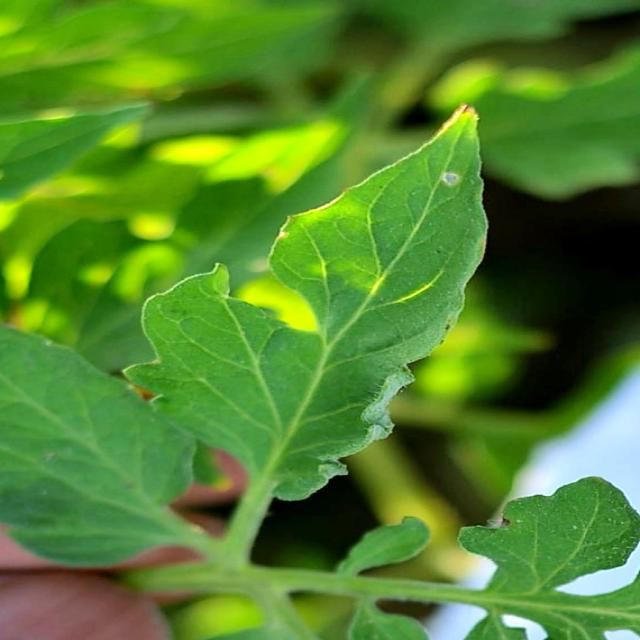healthy: (125, 118, 526, 500)
